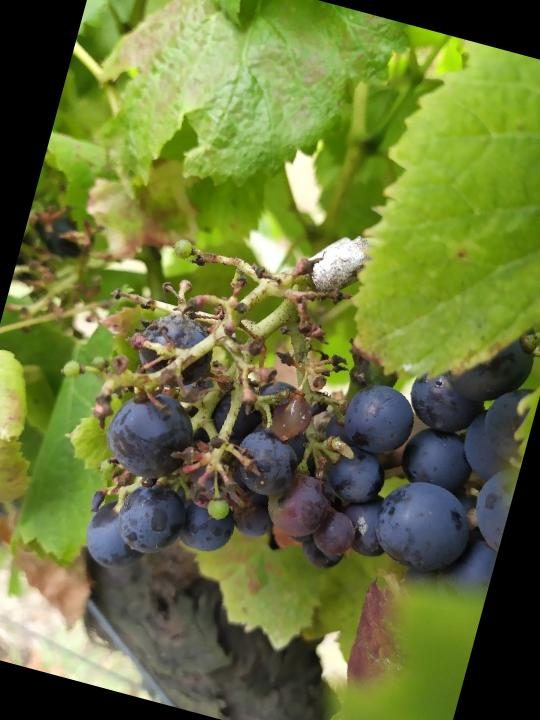grape: (14, 216, 417, 627)
